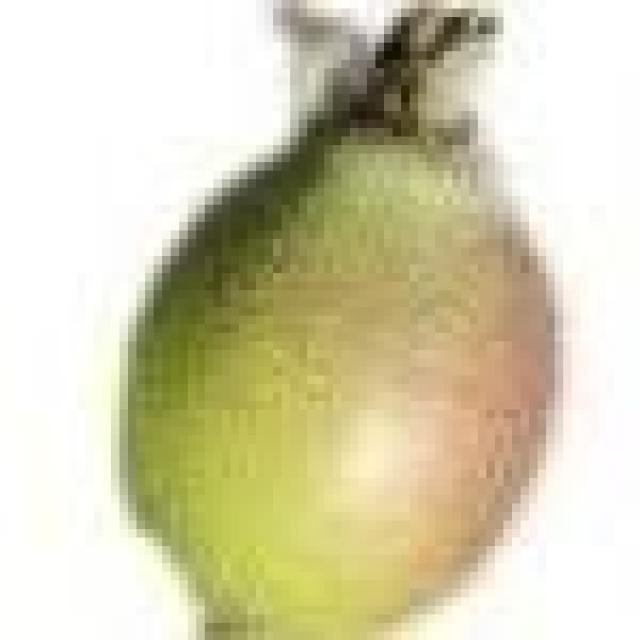Rotten Apple: (107, 0, 576, 640)
